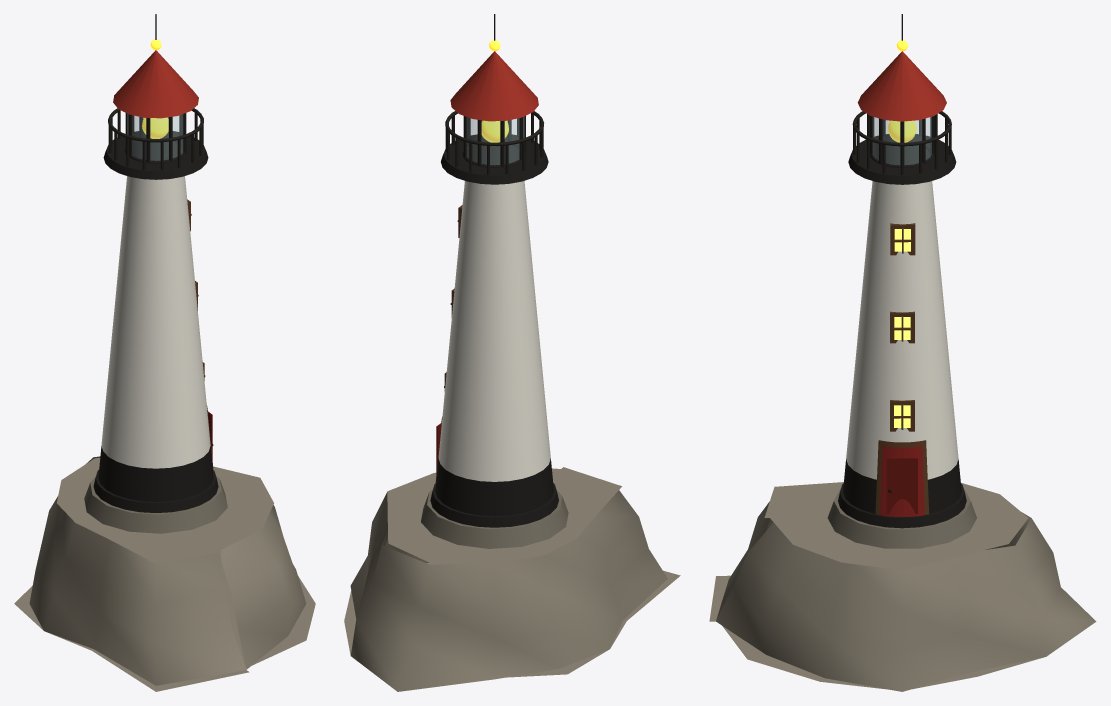
The model's file is lighthouse_island.glb.
3 renders of one model, left to right at view 1: azimuth 30°, elevation 25°; view 2: azimuth 150°, elevation 25°; view 3: azimuth 270°, elevation 25°, orthographic. The views are drawn at different scales.
Parts seen in each view (by area): view 1: island_core, tower_band_1, tower_band_2, tower_band_3, tower_band_0, tower_band_4, roof, tower_band_5, lighthouse_footing, tower_band_6, gallery_deck, tower_band_7 (+3 smaller); view 2: island_core, tower_band_1, tower_band_2, tower_band_3, tower_band_0, tower_band_4, roof, tower_band_5, lighthouse_footing, tower_band_6, gallery_deck, tower_band_7 (+3 smaller); view 3: island_core, tower_band_3, tower_band_2, roof, tower_band_5, lighthouse_footing, tower_band_4, tower_band_1, gallery_deck, tower_band_6, tower_band_0, tower_band_7 (+7 smaller).
Part boxes in pixels (bbox=[...]): island_core: bbox=[14, 456, 315, 691]; tower_band_1: bbox=[101, 405, 210, 468]; tower_band_2: bbox=[105, 364, 206, 425]; tower_band_3: bbox=[109, 322, 202, 382]; tower_band_0: bbox=[98, 446, 213, 501]; tower_band_4: bbox=[113, 281, 198, 340]; roof: bbox=[113, 50, 198, 118]; tower_band_5: bbox=[117, 240, 194, 297]; lighthouse_footing: bbox=[84, 476, 227, 533]; tower_band_6: bbox=[121, 199, 190, 254]; gallery_deck: bbox=[103, 131, 208, 179]; tower_band_7: bbox=[125, 176, 186, 211]; island_core: bbox=[344, 467, 680, 691]; tower_band_1: bbox=[438, 416, 550, 481]; tower_band_2: bbox=[442, 374, 546, 437]; tower_band_3: bbox=[446, 331, 542, 393]; tower_band_0: bbox=[435, 458, 553, 516]; tower_band_4: bbox=[450, 289, 538, 349]; roof: bbox=[450, 51, 538, 121]; tower_band_5: bbox=[454, 247, 534, 305]; lighthouse_footing: bbox=[421, 489, 568, 548]; tower_band_6: bbox=[458, 205, 530, 261]; gallery_deck: bbox=[441, 134, 548, 184]; tower_band_7: bbox=[462, 181, 526, 217]; island_core: bbox=[709, 482, 1096, 691]; tower_band_3: bbox=[854, 332, 950, 394]; tower_band_2: bbox=[850, 374, 954, 438]; roof: bbox=[857, 51, 946, 121]; tower_band_5: bbox=[862, 247, 942, 305]; lighthouse_footing: bbox=[827, 488, 976, 548]; tower_band_4: bbox=[858, 289, 946, 350]; tower_band_1: bbox=[846, 416, 958, 479]; gallery_deck: bbox=[848, 134, 956, 184]; tower_band_6: bbox=[866, 205, 938, 261]; tower_band_0: bbox=[843, 459, 961, 513]; tower_band_7: bbox=[870, 181, 934, 217].
Size of the model in its own units: 2.89 by 6.45 by 3.73.
